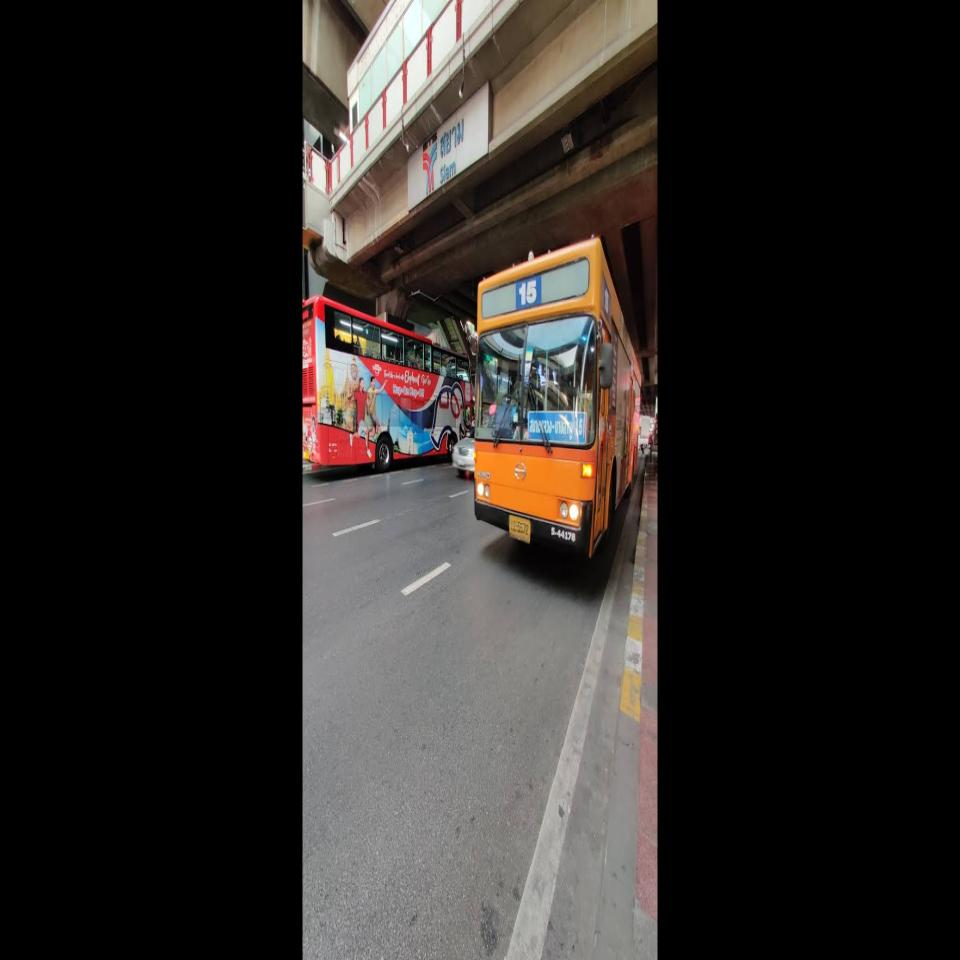signage: (422, 117, 465, 197), (439, 117, 465, 186)
